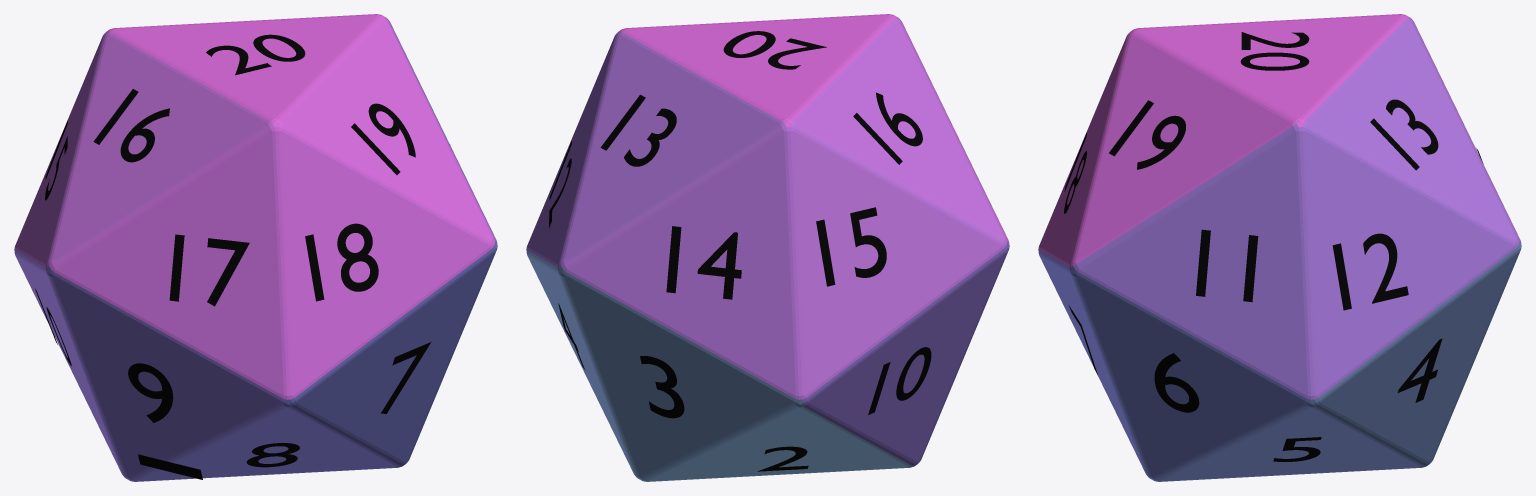
The picture shows the model from 3 angles, left to right: view 1: azimuth 30°, elevation 25°; view 2: azimuth 150°, elevation 25°; view 3: azimuth 270°, elevation 25°; orthographic projection.
Parts seen in each view (by area): view 1: d20, d20_num; view 2: d20, d20_num; view 3: d20, d20_num.
Boxes of the visible parts, <box> form: d20: <box>14,14,497,481</box>; d20_num: <box>35,34,430,479</box>; d20: <box>526,14,1009,481</box>; d20_num: <box>549,31,931,471</box>; d20: <box>1038,14,1521,481</box>; d20_num: <box>1064,32,1483,461</box>.
Size of the model in its own units: 2.8 by 2.34 by 2.61.
